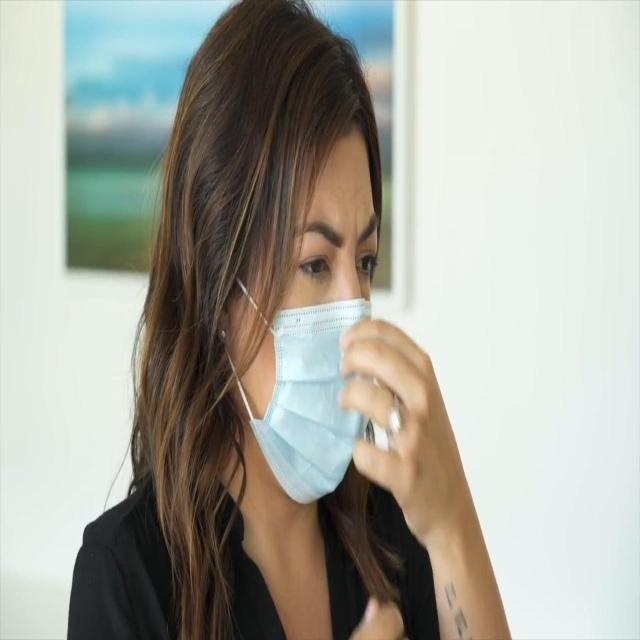Mask: (230, 123, 383, 505)
